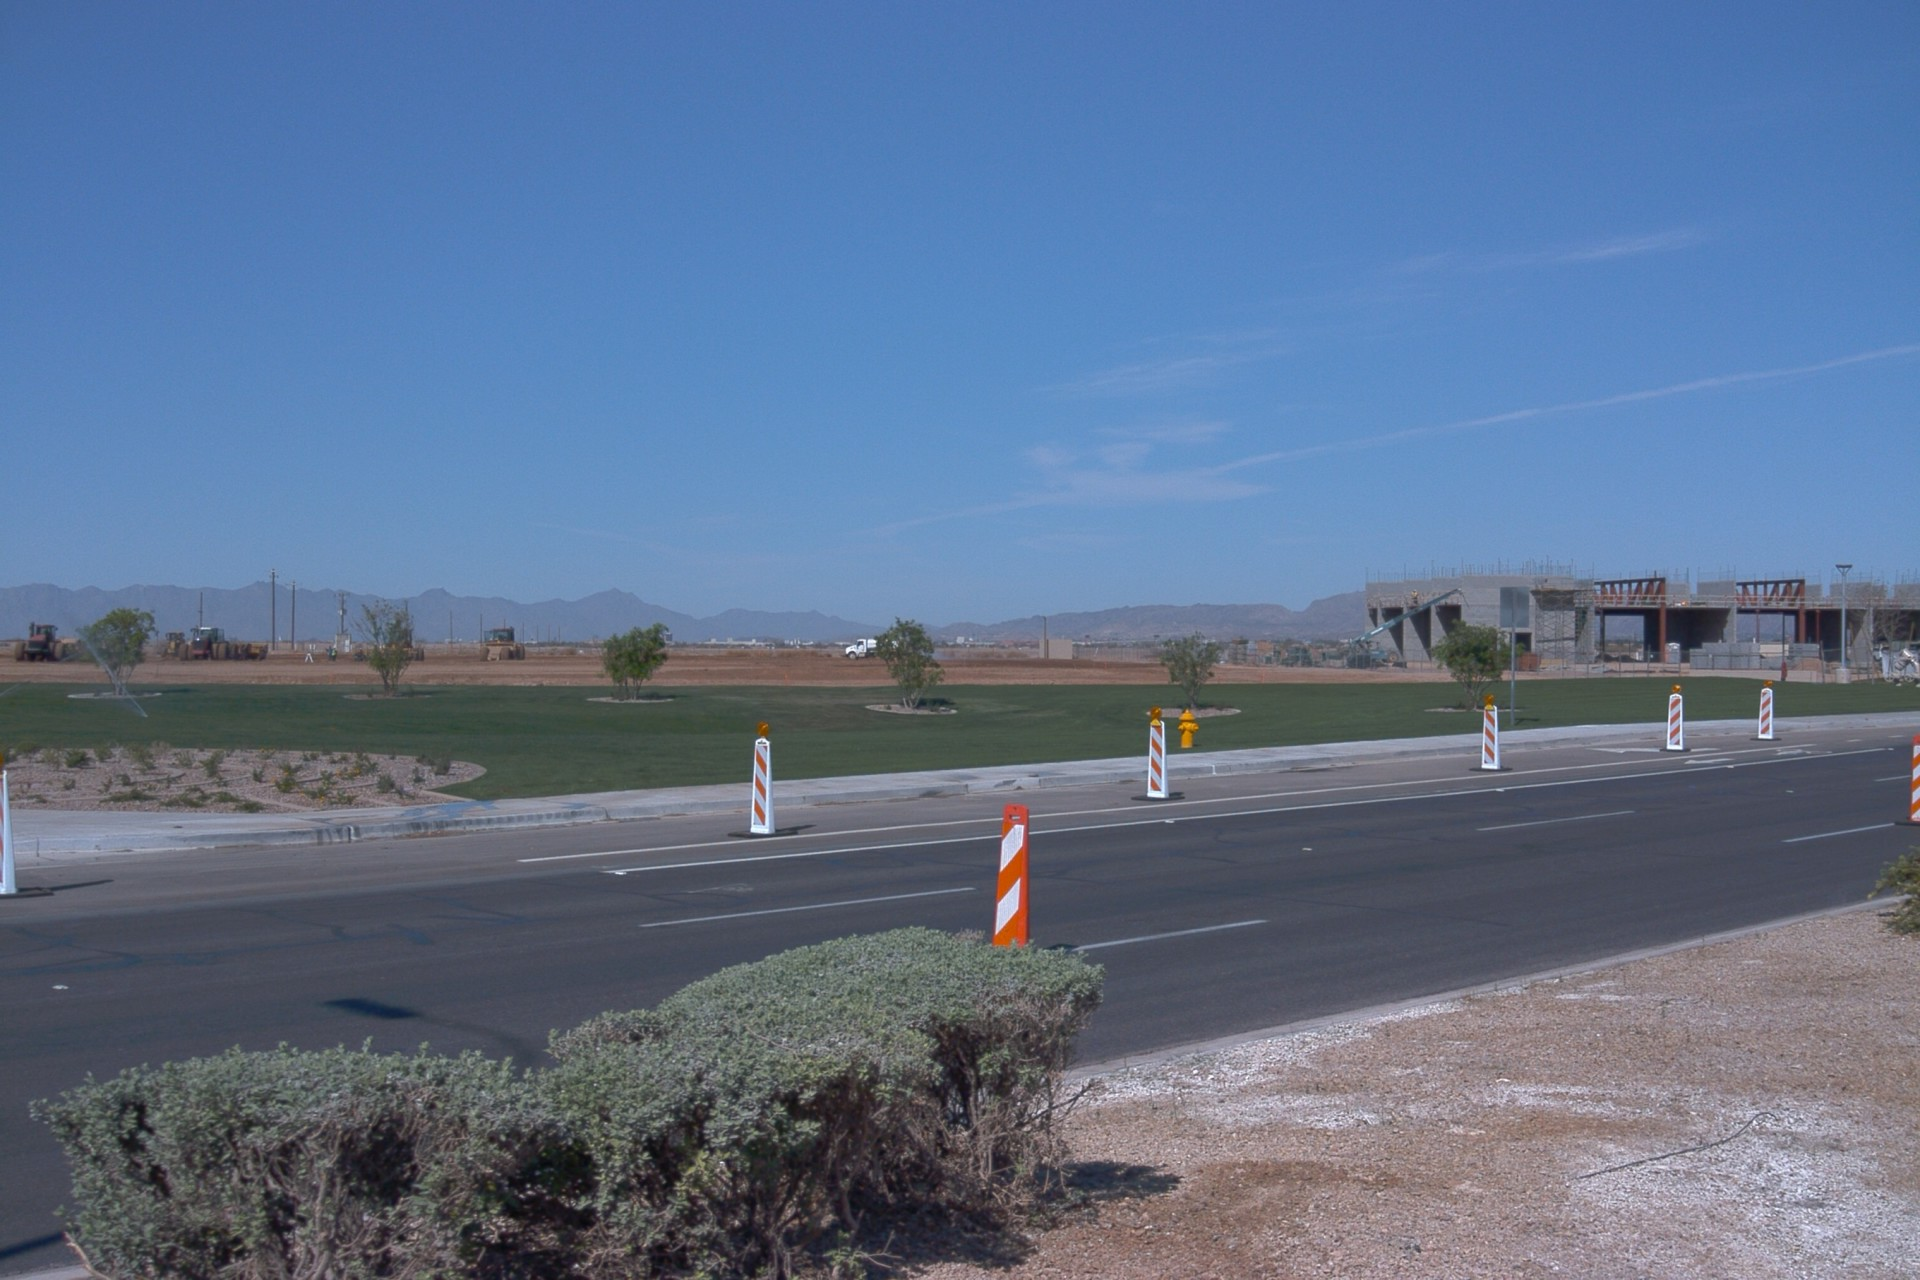TYPE_PEDESTRIAN: (332, 646, 338, 662)
TYPE_VEHICLE: (1352, 589, 1469, 665), (177, 625, 270, 665), (14, 622, 73, 665), (844, 630, 911, 661), (161, 632, 186, 657)
